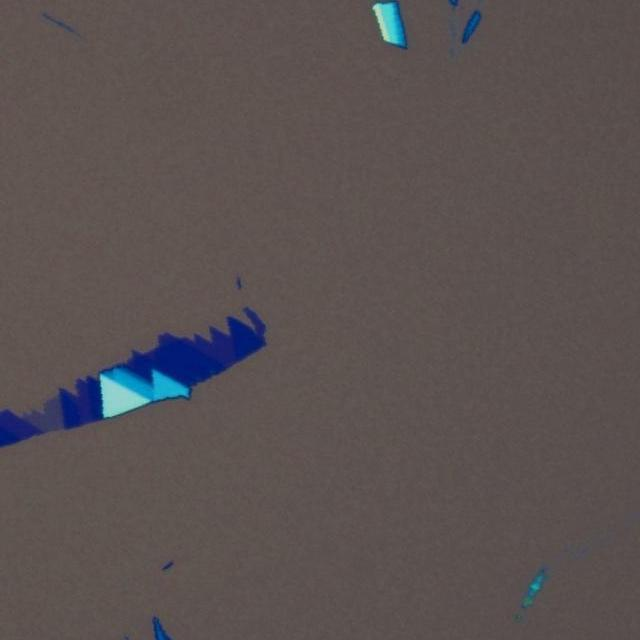monolayer-eWW4: (18, 393, 64, 434)
